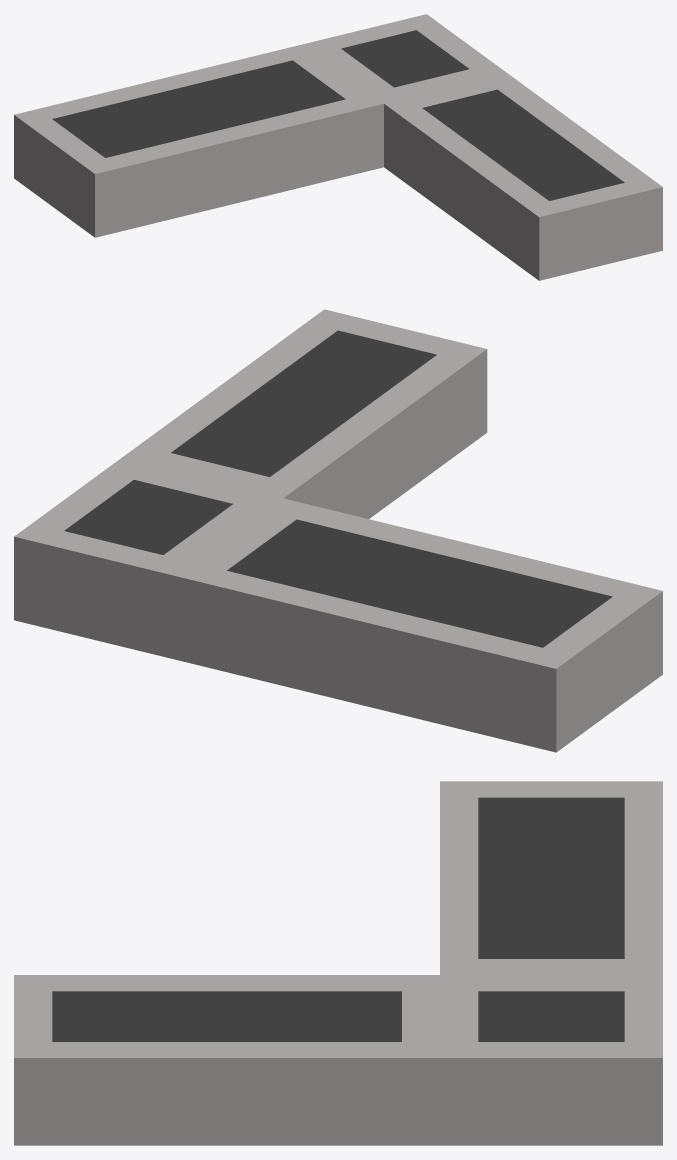
Rendered from roof adorn4.FBX.
The picture shows the model from 3 angles, top to bottom: view 1: azimuth 30°, elevation 25°; view 2: azimuth 150°, elevation 25°; view 3: azimuth 270°, elevation 25°; orthographic projection. The views are drawn at different scales.
Parts seen in each view (by area): view 1: roof adorn4; view 2: roof adorn4; view 3: roof adorn4.
Boxes of the visible parts, x1,y1,x2,y2 form: roof adorn4: (14, 14, 662, 280); roof adorn4: (14, 309, 662, 752); roof adorn4: (14, 781, 662, 1145).
Bounding box in the file's own units: 7.97 × 1.17 × 7.9.
